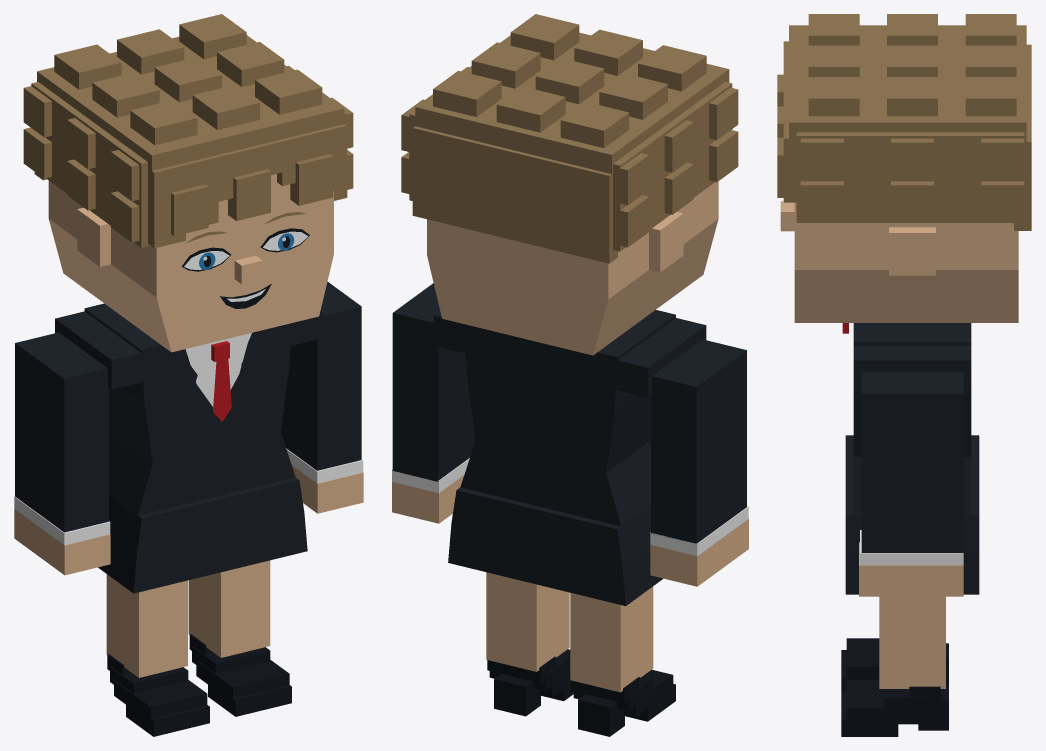
File: female_curly.glb
3 views of the same model, side by side, from view 1: azimuth 30°, elevation 25°; view 2: azimuth 150°, elevation 25°; view 3: azimuth 270°, elevation 25° (orthographic). The views are drawn at different scales.
Visible parts, largest first — view 1: char_hair_visual, char_torso_visual, char_head_visual, char_arm_negx_visual, char_arm_posx_visual, char_leg_negx_visual, char_leg_posx_visual, char_hand_negx_visual, char_hand_posx_visual, char_eye_negx_visual, char_eye_posx_visual; view 2: char_hair_visual, char_torso_visual, char_head_visual, char_arm_negx_visual, char_arm_posx_visual, char_leg_negx_visual, char_leg_posx_visual, char_hand_negx_visual, char_hand_posx_visual; view 3: char_hair_visual, char_head_visual, char_arm_posx_visual, char_torso_visual, char_leg_posx_visual, char_hand_posx_visual, char_leg_negx_visual.
Part boxes in pixels (x1,y1,x2,y2): char_hair_visual: (23, 14, 353, 248); char_torso_visual: (55, 303, 321, 593); char_head_visual: (48, 174, 333, 352); char_arm_negx_visual: (14, 332, 110, 545); char_arm_posx_visual: (281, 281, 363, 483); char_leg_negx_visual: (106, 574, 209, 736); char_leg_posx_visual: (188, 560, 291, 716); char_hand_negx_visual: (14, 509, 110, 575); char_hand_posx_visual: (291, 465, 363, 513); char_eye_negx_visual: (181, 247, 231, 271); char_eye_posx_visual: (260, 228, 309, 252); char_hair_visual: (401, 14, 738, 263); char_torso_visual: (433, 310, 706, 606); char_head_visual: (427, 181, 718, 355); char_arm_negx_visual: (650, 339, 748, 556); char_arm_posx_visual: (392, 283, 475, 492); char_leg_negx_visual: (570, 586, 675, 736); char_leg_posx_visual: (486, 572, 573, 716); char_hand_negx_visual: (650, 519, 748, 586); char_hand_posx_visual: (392, 475, 464, 523); char_hair_visual: (777, 14, 1031, 230); char_head_visual: (780, 201, 1018, 322); char_arm_posx_visual: (860, 372, 963, 565); char_torso_visual: (842, 323, 979, 594); char_leg_posx_visual: (841, 596, 948, 736); char_hand_posx_visual: (859, 542, 963, 596); char_leg_negx_visual: (841, 638, 948, 691).
Bounding box in the file's own units: 0.91 × 1.82 × 0.648.
